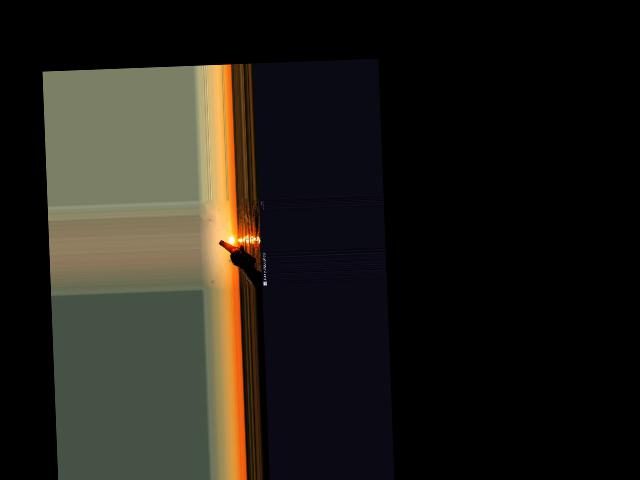beer: (218, 238, 256, 267)
